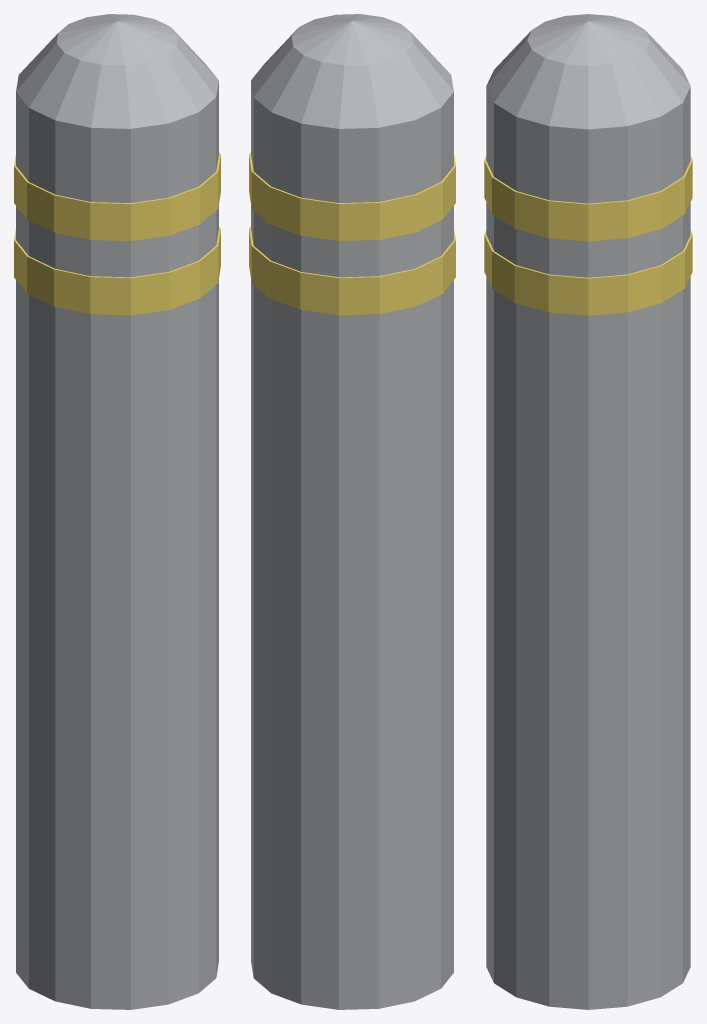
The model's file is bollard.glb.
3 renders of one model, left to right at view 1: azimuth 30°, elevation 25°; view 2: azimuth 150°, elevation 25°; view 3: azimuth 270°, elevation 25°, orthographic.
Visible parts, largest first — view 1: bollard_steel, bollard_yellow; view 2: bollard_steel, bollard_yellow; view 3: bollard_steel, bollard_yellow.
Part boxes in pixels (bbox=[...]): bollard_steel: bbox=[16, 14, 218, 1009]; bollard_yellow: bbox=[14, 152, 220, 315]; bollard_steel: bbox=[251, 14, 453, 1009]; bollard_yellow: bbox=[249, 152, 455, 315]; bollard_steel: bbox=[486, 14, 690, 1009]; bollard_yellow: bbox=[484, 156, 692, 315].
Bounding box in the file's own units: 0.204 × 1.02 × 0.204.
